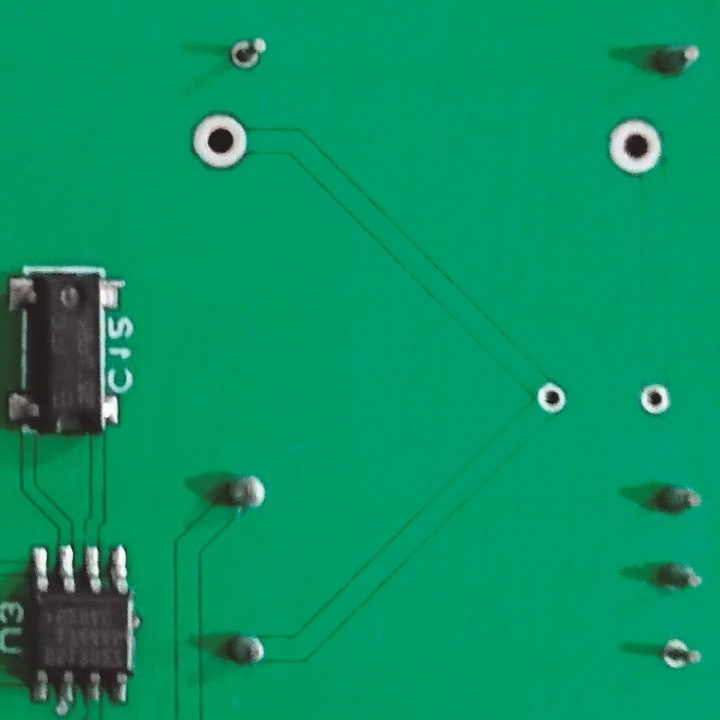F: (605, 114, 668, 182), (188, 108, 250, 172), (659, 634, 703, 676), (227, 35, 270, 75), (636, 378, 673, 420), (534, 379, 570, 417)
